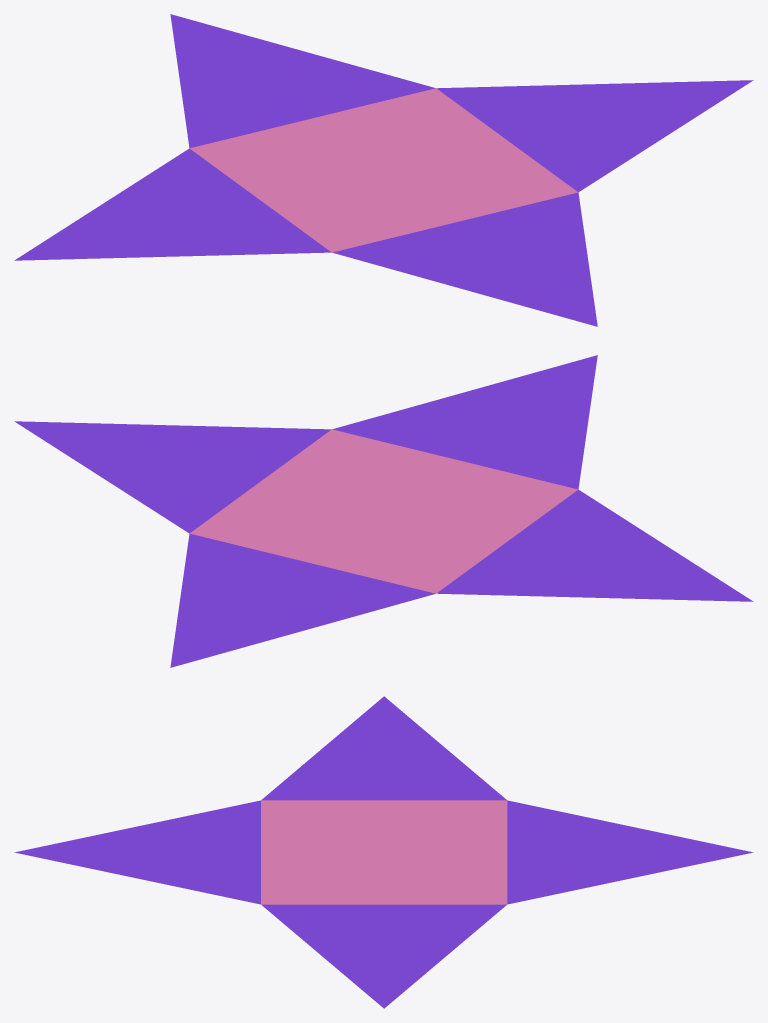
The model's file is plane-square-pyramid.fbx.
3 renders of one model, top to bottom at view 1: azimuth 30°, elevation 25°; view 2: azimuth 150°, elevation 25°; view 3: azimuth 270°, elevation 25°, orthographic. The views are drawn at different scales.
Parts seen in each view (by area): view 1: Plane; view 2: Plane; view 3: Plane.
Part boxes in pixels (x1,y1,x2,y2): Plane: (14, 14, 753, 326); Plane: (14, 355, 753, 667); Plane: (14, 696, 753, 1008).
Size of the model in its own units: 600 by 0 by 600.
